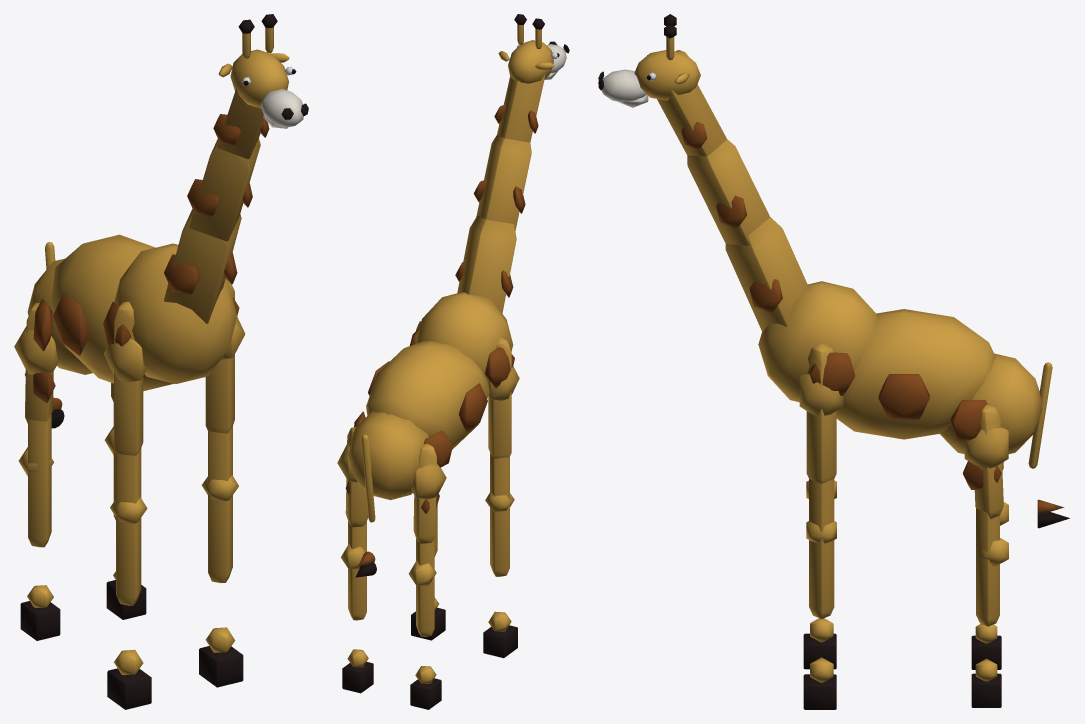
The model's file is giraffe.glb.
3 views of the same model, side by side, from view 1: azimuth 30°, elevation 25°; view 2: azimuth 150°, elevation 25°; view 3: azimuth 270°, elevation 25° (orthographic). The views are drawn at different scales.
Visible parts, largest first — view 1: giraffe; view 2: giraffe; view 3: giraffe.
Boxes of the visible parts, <box> form: giraffe: <box>14,14,308,709</box>; giraffe: <box>337,14,569,709</box>; giraffe: <box>598,14,1069,709</box>.
Size of the model in its own units: 0.919 by 4.88 by 3.15.
